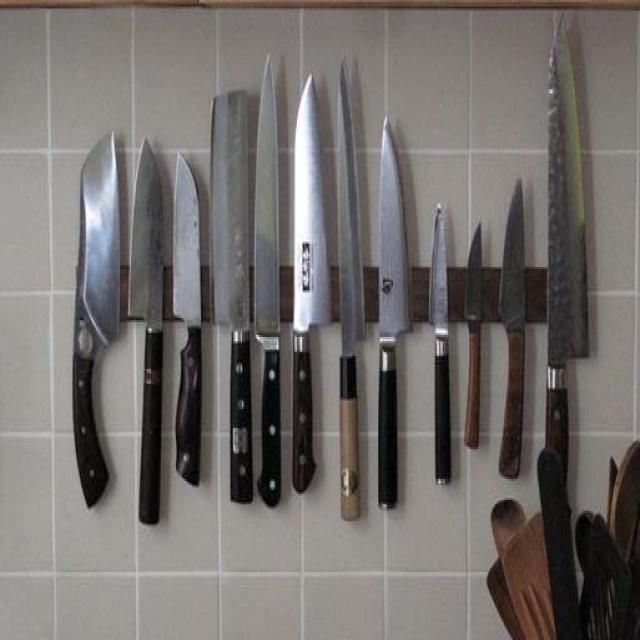Pisau: (290, 59, 338, 502)
